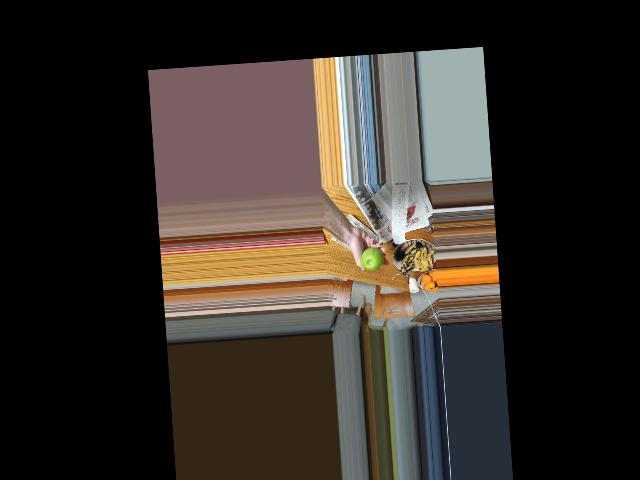apple: (357, 245, 385, 272)
